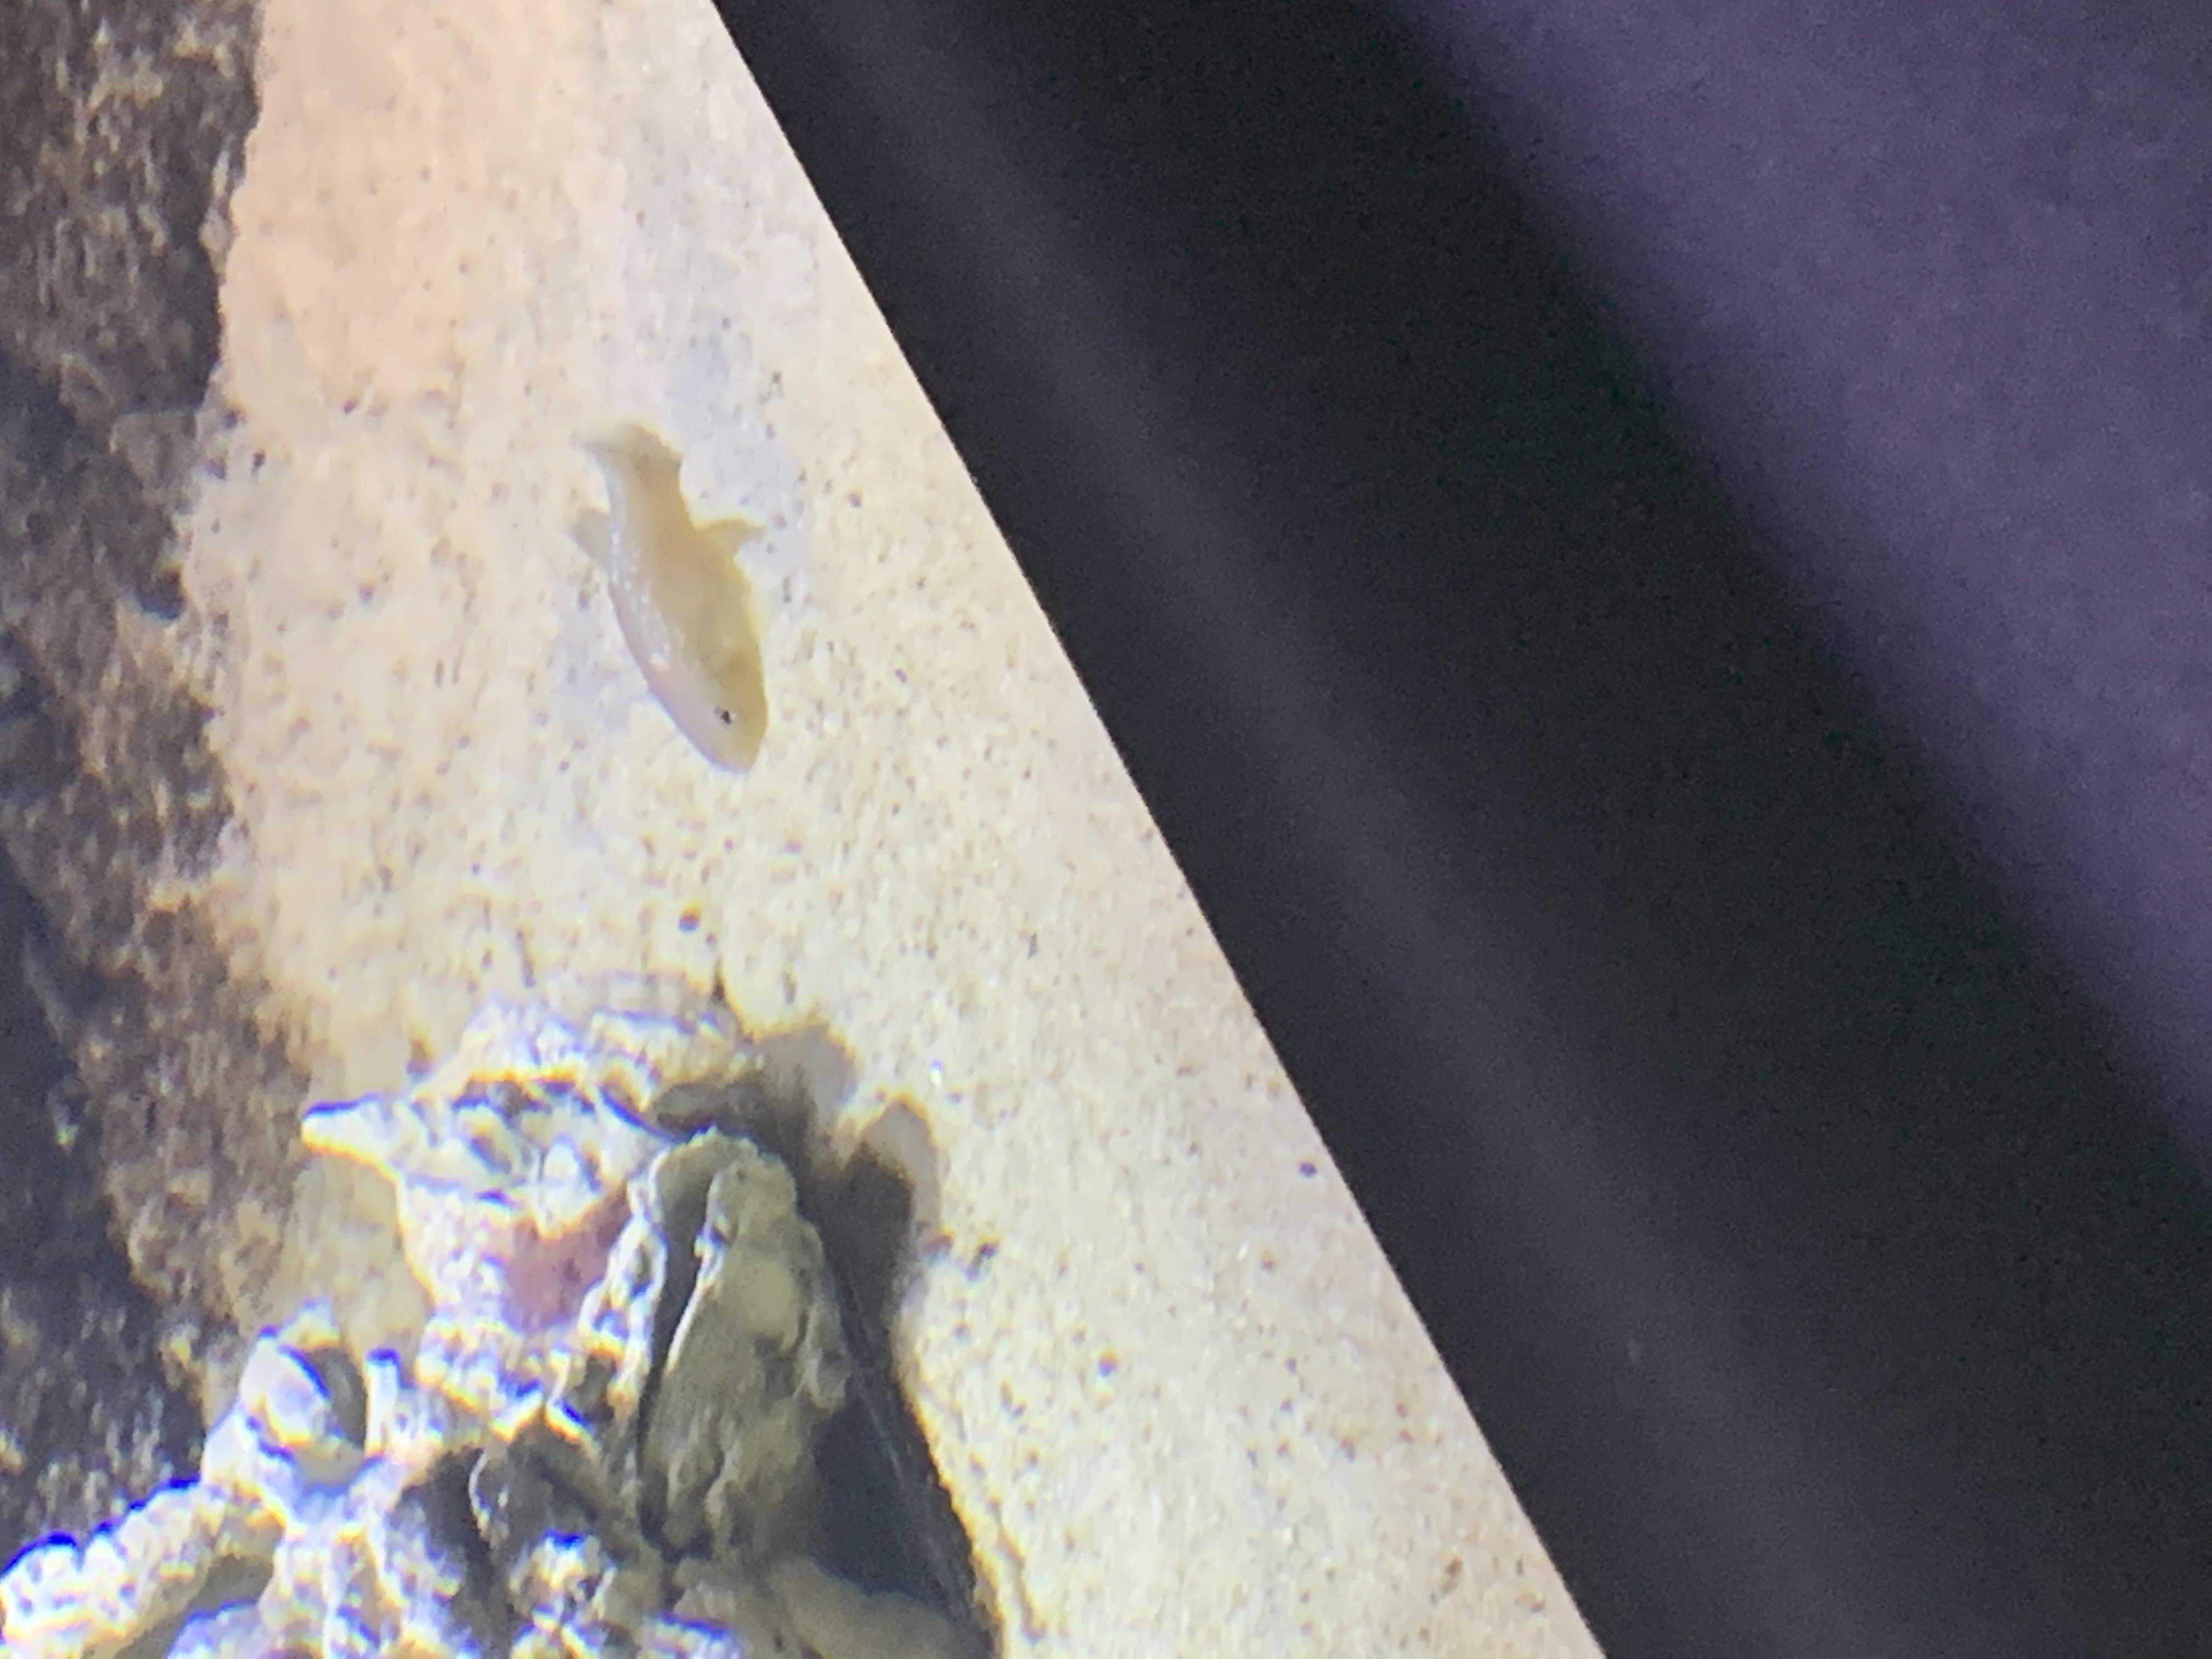fish: (550, 418, 786, 781)
